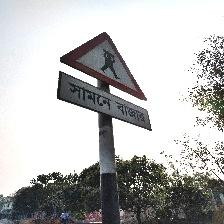Market-in-front: (57, 31, 152, 132)
